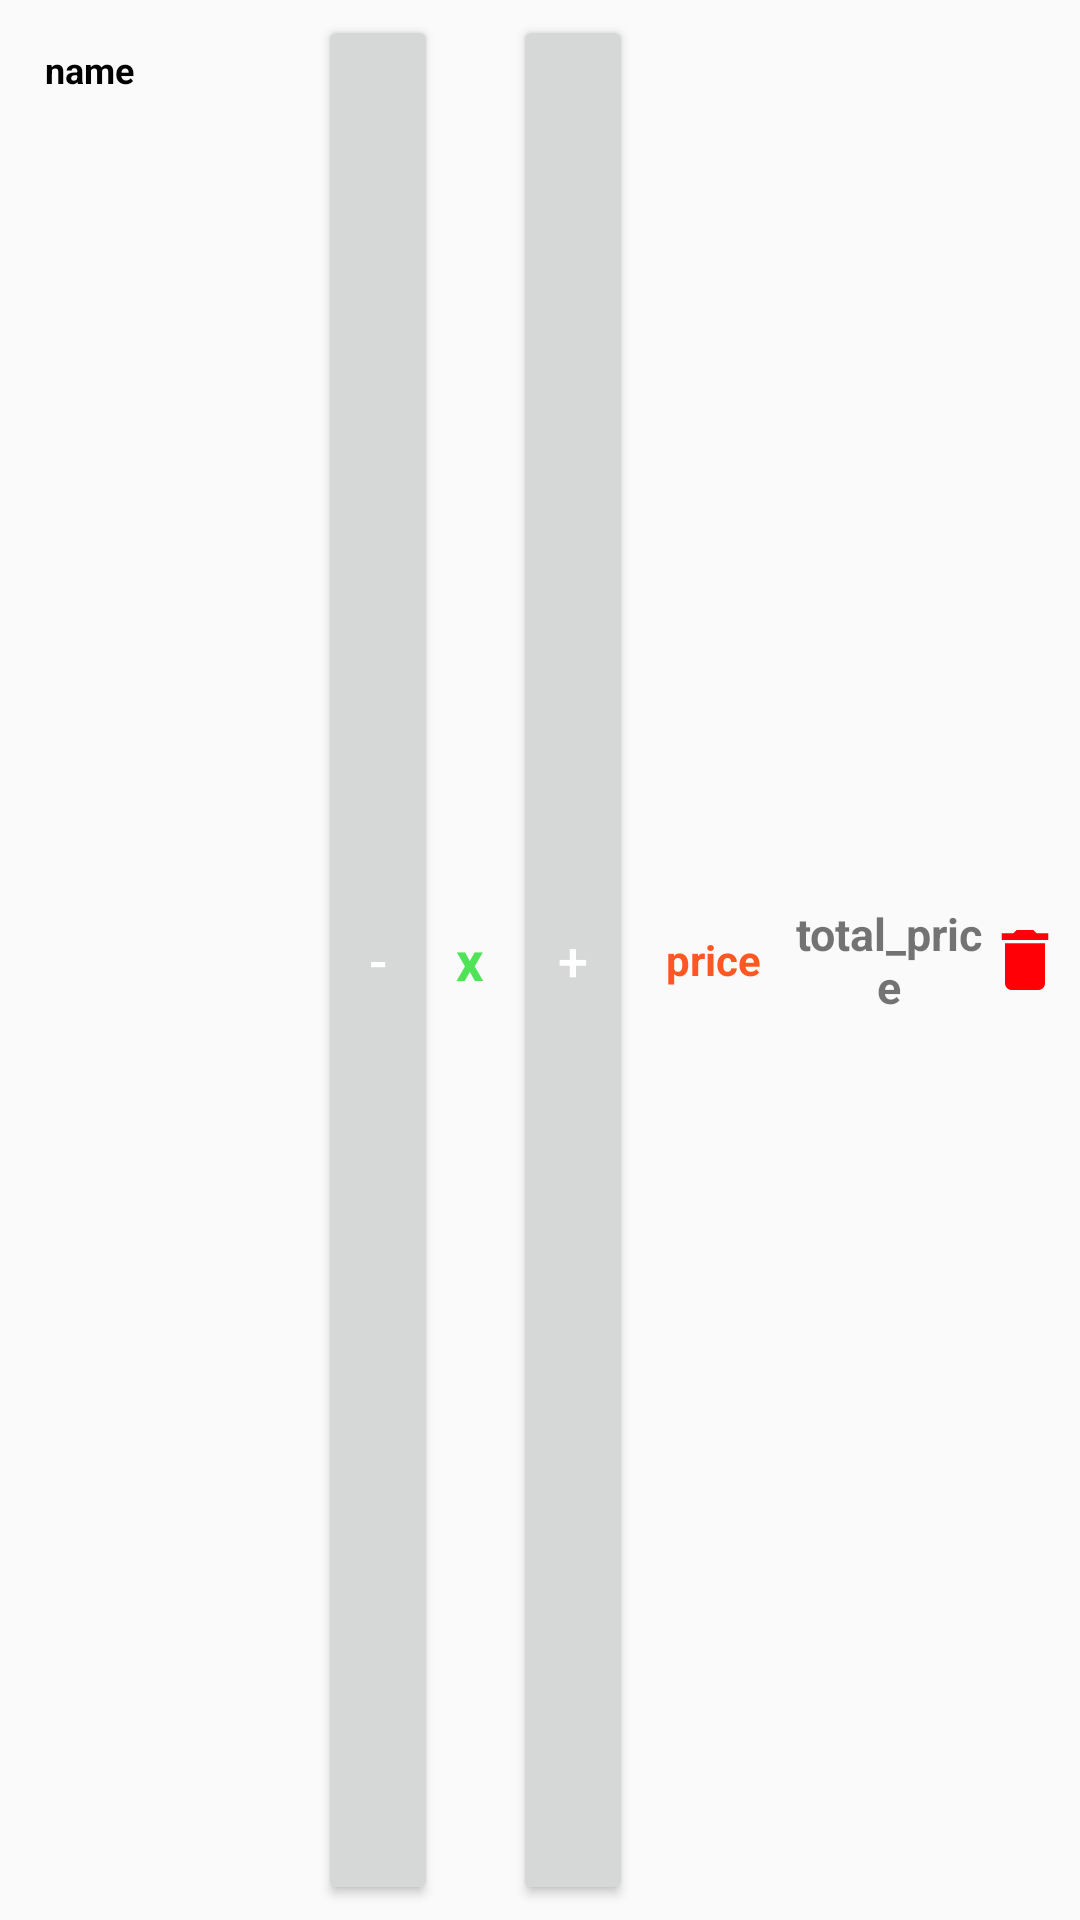

Icons on this 1080w x 1920h Android screen, each with its box as (x1, y1, x2, y2):
delete: (1001, 930, 1049, 990)
